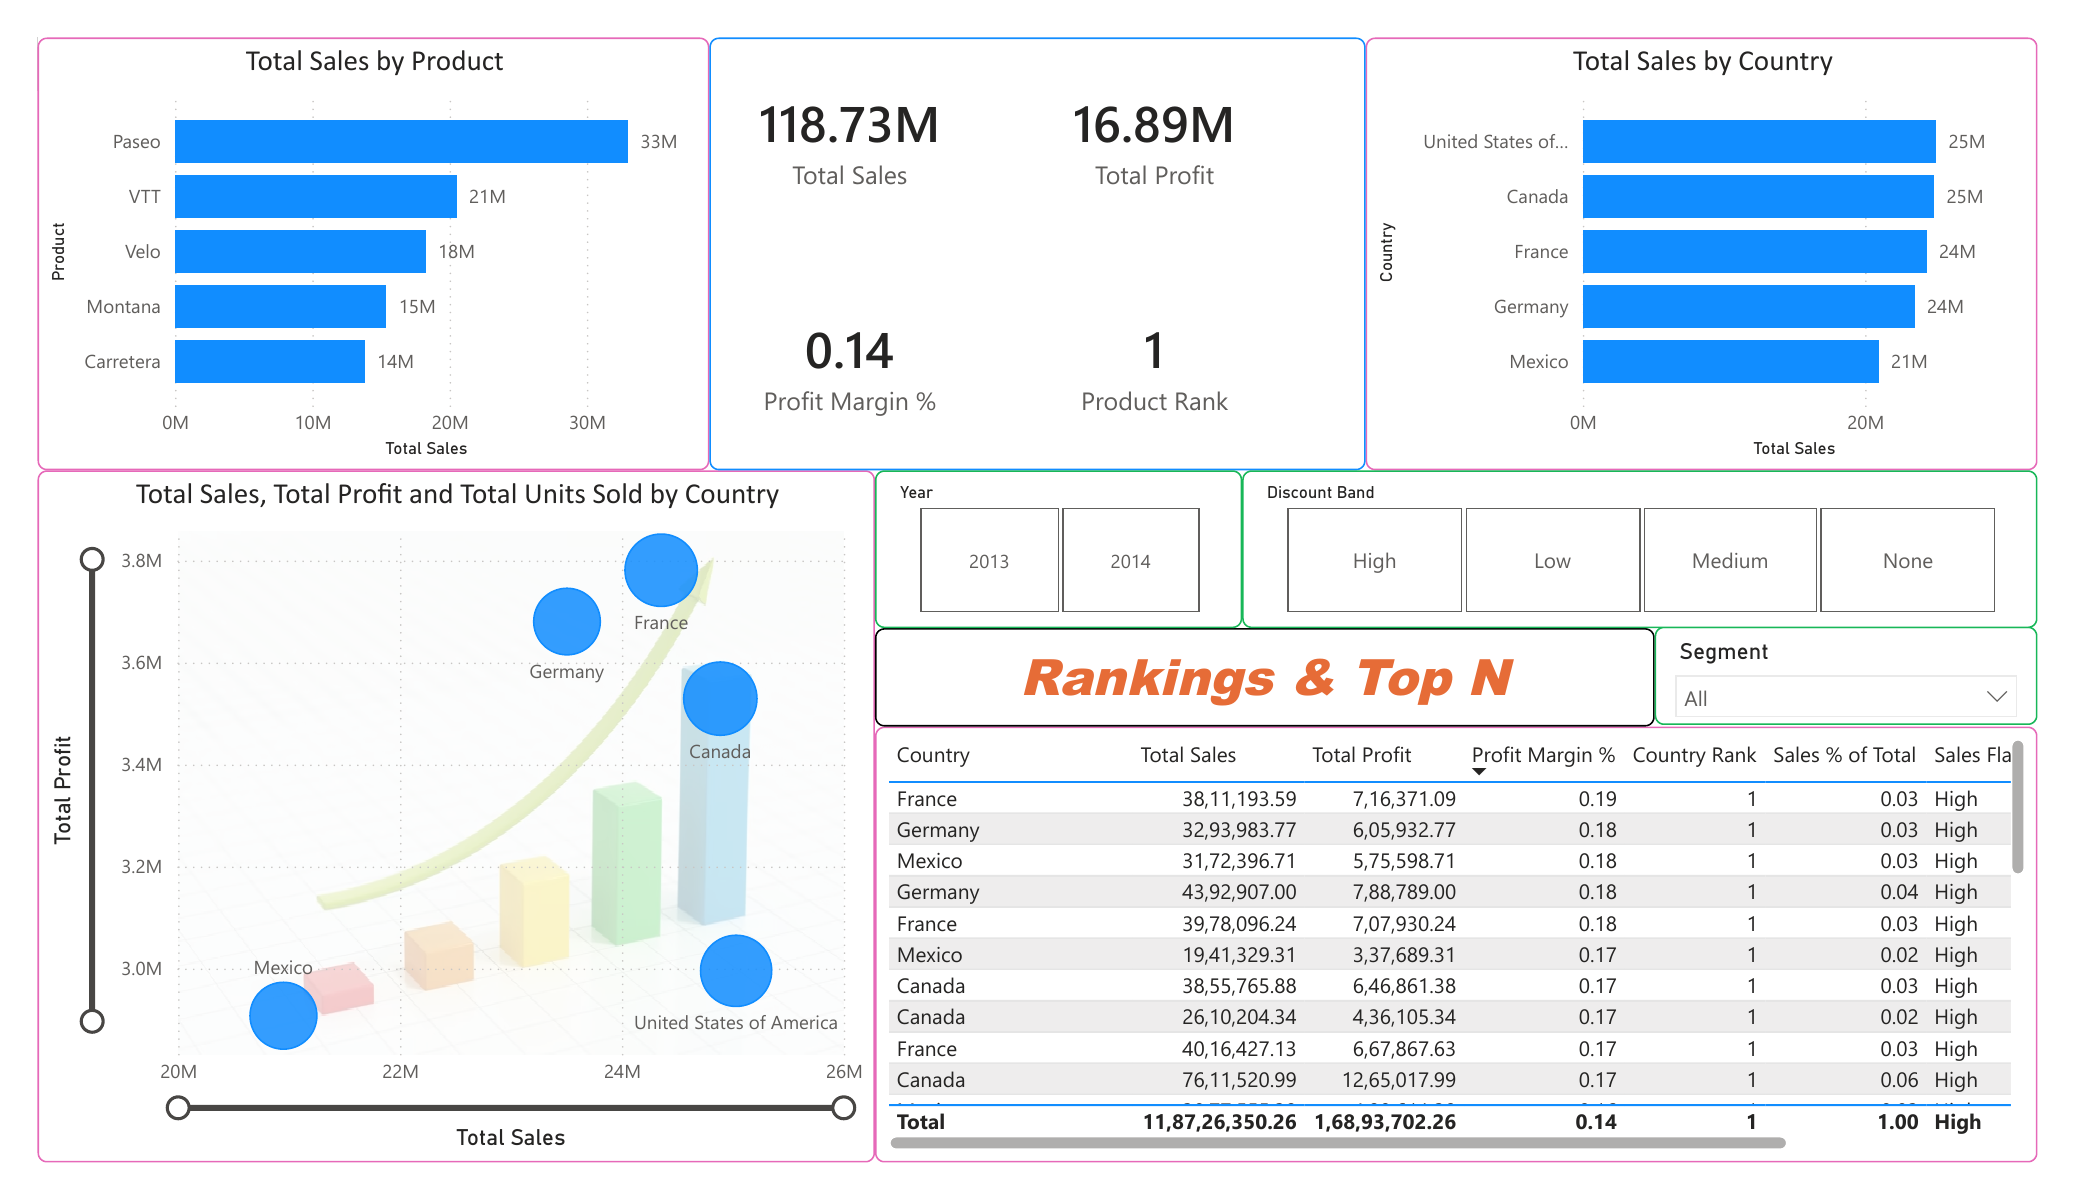

The page's visual inventory and layout, read from the dashboard file:
{"tool":"powerbi","page":{"name":"Rankings & Top N","canvas":[1280,720],"ordinal":3},"visuals":[{"type":"barChart","fields":{"Category":["financials.Product"],"Y":["Measure.Total Sales"]},"box":[0,0,430.5,277.3],"z":0},{"type":"scatterChart","fields":{"Category":["financials.Country"],"X":["Measure.Total Sales"],"Y":["Measure.Total Profit"],"Size":["Measure.Total Units Sold"]},"box":[0,277.3,536,442.9],"z":1000},{"type":"barChart","fields":{"Category":["financials.Country"],"Y":["Measure.Total Sales"]},"box":[849.5,0,430.5,277.3],"z":3000},{"type":"cardVisual","title":"SUM()","fields":{"Data":["Measure.Total Sales","Measure.Total Profit","Measure.Profit Margin %","Measure.Product Rank"]},"box":[430.5,0,419.1,277.3],"z":3001},{"type":"tableEx","fields":{"Values":["financials.Country","Measure.Total Sales","Measure.Total Profit","Measure.Profit Margin %","Measure.Country Rank","Measure.Sales % of Total","Measure.Sales Flag","Measure.Sales Category","financials.Product"]},"box":[536,440.8,744,279.4],"z":3002},{"type":"textbox","box":[536,377.7,498.8,63.1],"z":3003},{"type":"slicer","fields":{"Values":["financials.Segment"]},"box":[1034.8,377.7,245.2,63.1],"z":3004},{"type":"slicer","fields":{"Values":["financials.Year"]},"box":[536,277.3,234.9,100.4],"z":3005},{"type":"slicer","fields":{"Values":["financials.Discount Band"]},"box":[770.9,277.3,509.1,100.4],"z":3006}]}

Visuals, with their boxes on the page's 1280x720 design canvas (x1, y1, x2, y2). These are canvas units, not pixel positions in the 2075x1200 screenshot, which may show the page scaled, cropped or inside an application window:
barChart - financials.Product x Measure.Total Sales: x1=0 y1=0 x2=430 y2=277
scatterChart - financials.Country x Measure.Total Sales: x1=0 y1=277 x2=536 y2=720
barChart - financials.Country x Measure.Total Sales: x1=850 y1=0 x2=1280 y2=277
"SUM()" cardVisual: x1=430 y1=0 x2=850 y2=277
tableEx - financials.Country x Measure.Total Sales: x1=536 y1=441 x2=1280 y2=720
textbox: x1=536 y1=378 x2=1035 y2=441
slicer - financials.Segment: x1=1035 y1=378 x2=1280 y2=441
slicer - financials.Year: x1=536 y1=277 x2=771 y2=378
slicer - financials.Discount Band: x1=771 y1=277 x2=1280 y2=378
